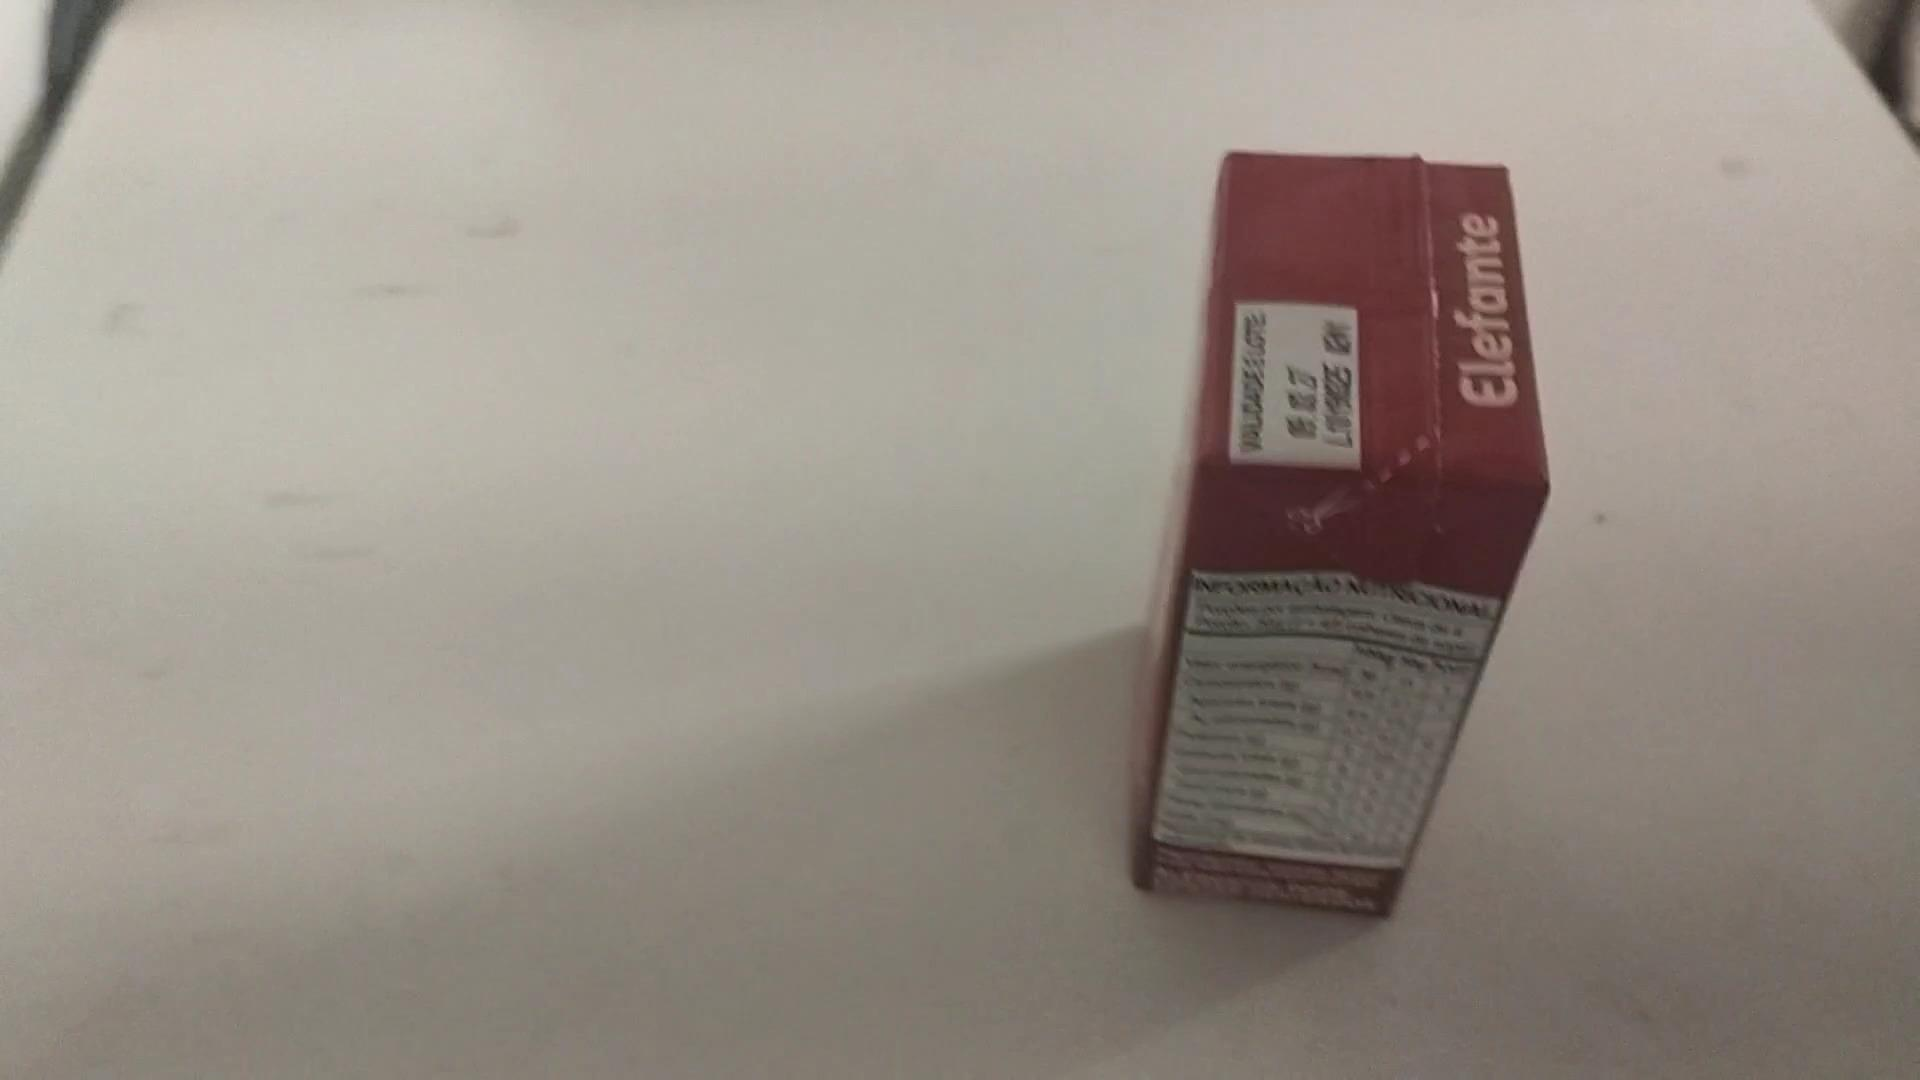tomate: (1081, 119, 1581, 924)
